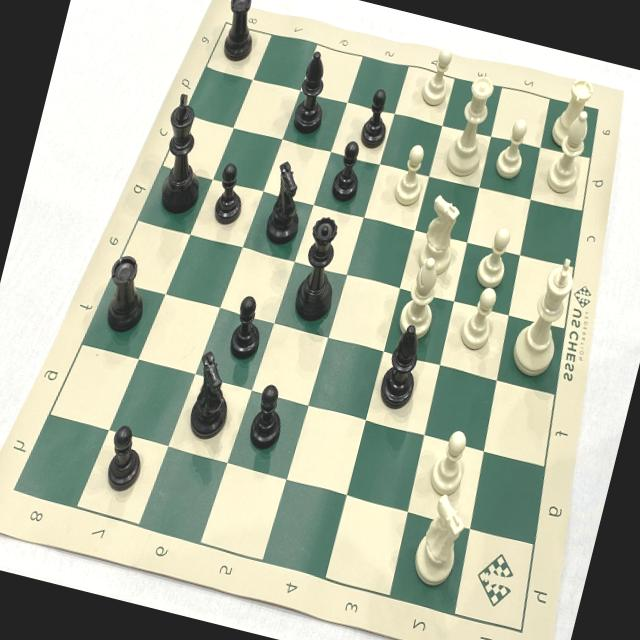black-bishop: (178, 344, 243, 451), (370, 316, 434, 415), (282, 42, 344, 144), (258, 155, 316, 251)
black-king: (144, 83, 227, 224)
black-pawn: (98, 416, 154, 499), (242, 377, 296, 458), (220, 290, 274, 370), (206, 156, 255, 232), (352, 84, 402, 156), (326, 134, 370, 210)
black-queen: (284, 208, 353, 330)
black-rook: (94, 246, 159, 340), (213, 0, 268, 70)
white-bishop: (539, 104, 597, 200), (393, 252, 448, 342)
white-king: (499, 245, 584, 386)
white-knight: (402, 490, 474, 594), (411, 189, 469, 281)
white-pawn: (422, 421, 477, 504), (454, 279, 504, 359), (469, 218, 518, 296), (387, 138, 434, 215), (488, 112, 536, 187), (415, 40, 459, 116)
white-queen: (436, 65, 505, 186)
white-rook: (544, 68, 599, 152)
